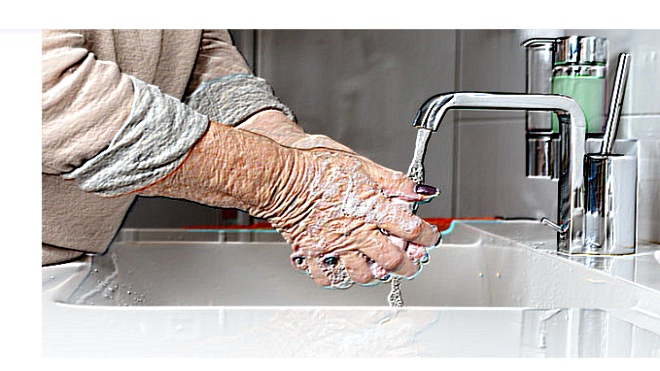washing hand: (272, 71, 518, 301)
